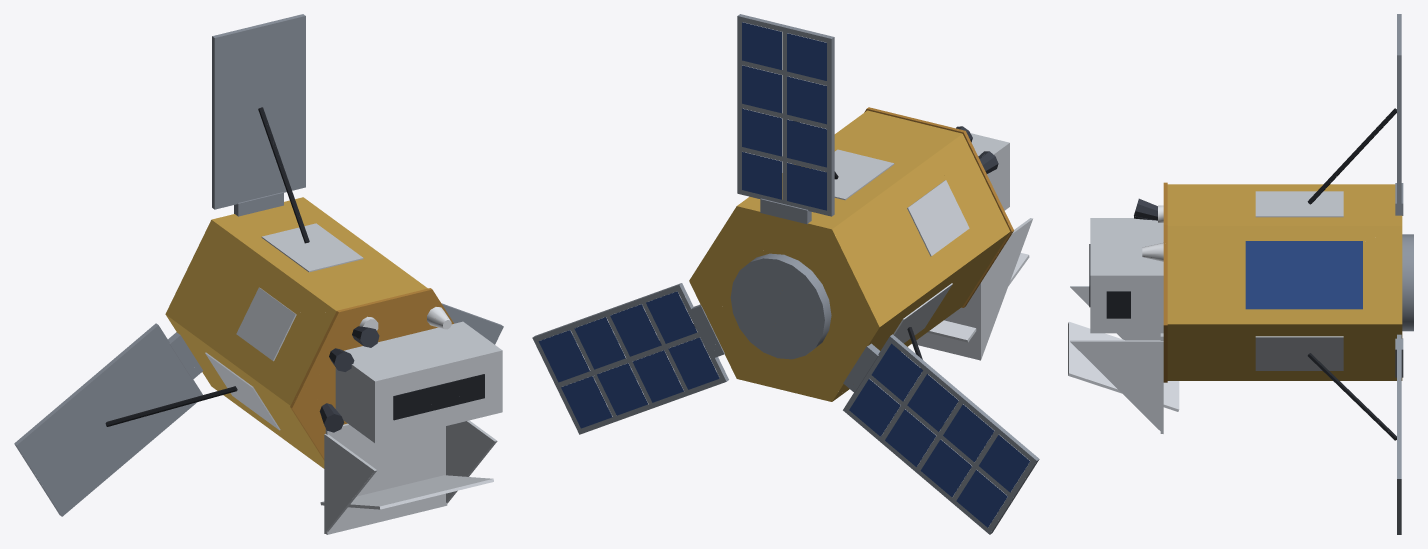
Rendered from sentinel-5p.glb.
3 renders of one model, left to right at view 1: azimuth 30°, elevation 25°; view 2: azimuth 150°, elevation 25°; view 3: azimuth 270°, elevation 25°, orthographic. The views are drawn at different scales.
Parts seen in each view (by area): view 1: body, foil; view 2: foil, body, solar-panel; view 3: foil, body, solar-panel.
Boxes of the visible parts, x1,y1,x2,y2 form: body: (14,14,503,534); foil: (165,197,453,468); foil: (689,107,1013,401); body: (532,14,1039,534); solar-panel: (538,22,1030,527); foil: (1163,182,1402,382); body: (1068,14,1413,534); solar-panel: (1245,241,1362,309).
Bounding box in the file's own units: 5.35 × 4.63 × 3.54.
